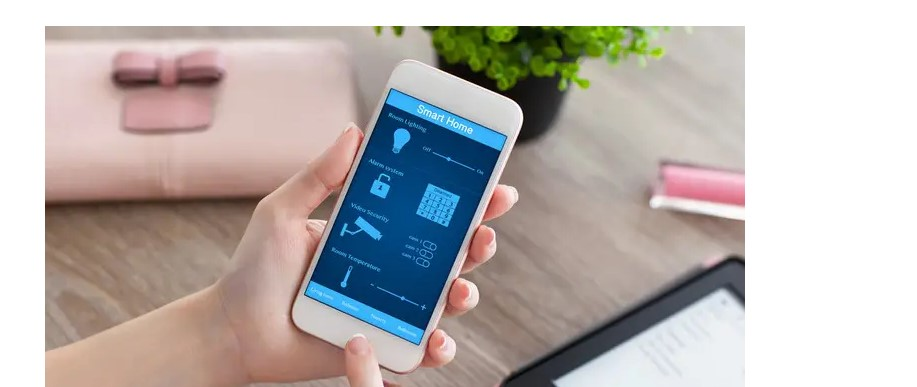phone: (291, 59, 525, 374)
